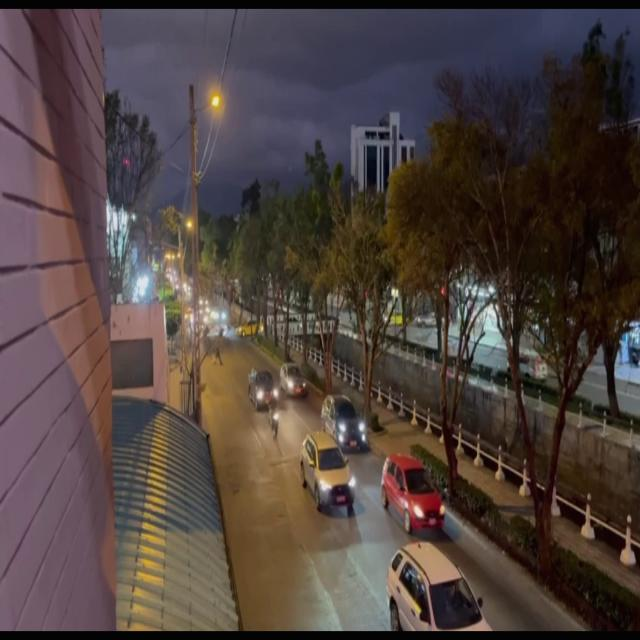SED: (383, 453, 442, 530)
SUV: (320, 396, 362, 451), (248, 369, 274, 408), (280, 363, 304, 395)
